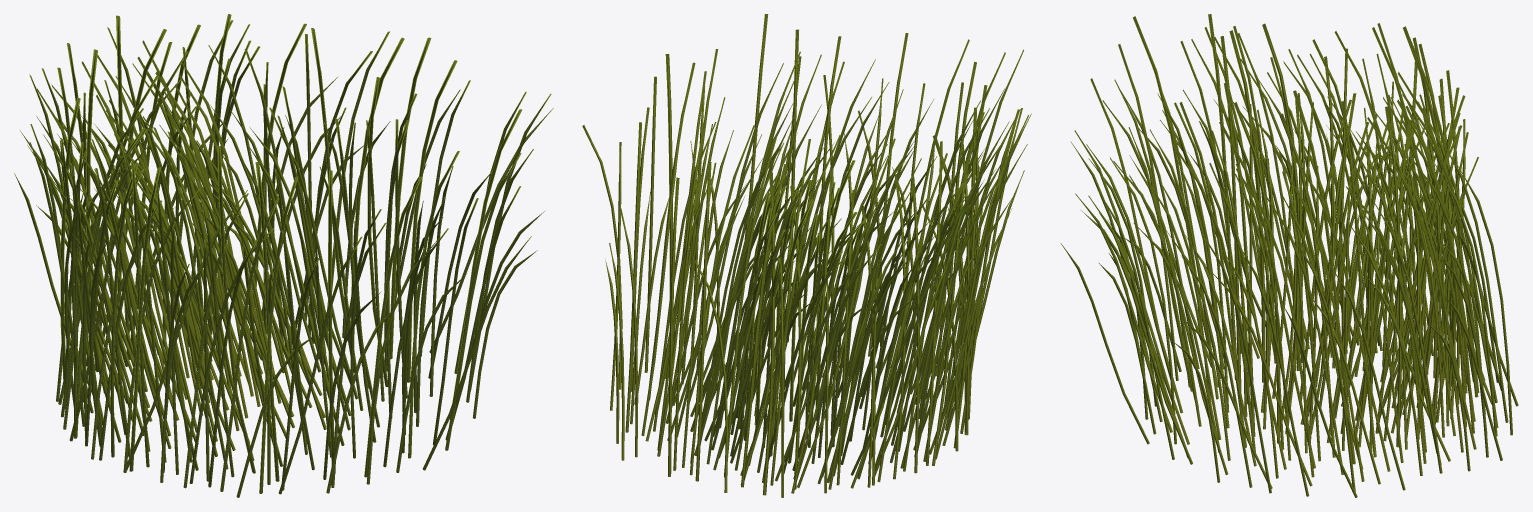
File: grass0.obj
The picture shows the model from 3 angles, left to right: view 1: azimuth 30°, elevation 25°; view 2: azimuth 150°, elevation 25°; view 3: azimuth 270°, elevation 25°; orthographic projection. The views are drawn at different scales.
Parts seen in each view (by area): view 1: tree; view 2: tree; view 3: tree.
Part boxes in pixels (x1,y1,x2,y2): tree: (14, 14, 553, 497); tree: (582, 14, 1031, 497); tree: (1060, 14, 1518, 497).
Size of the model in its own units: 147 by 112 by 136.
1 material, 1 textured.
